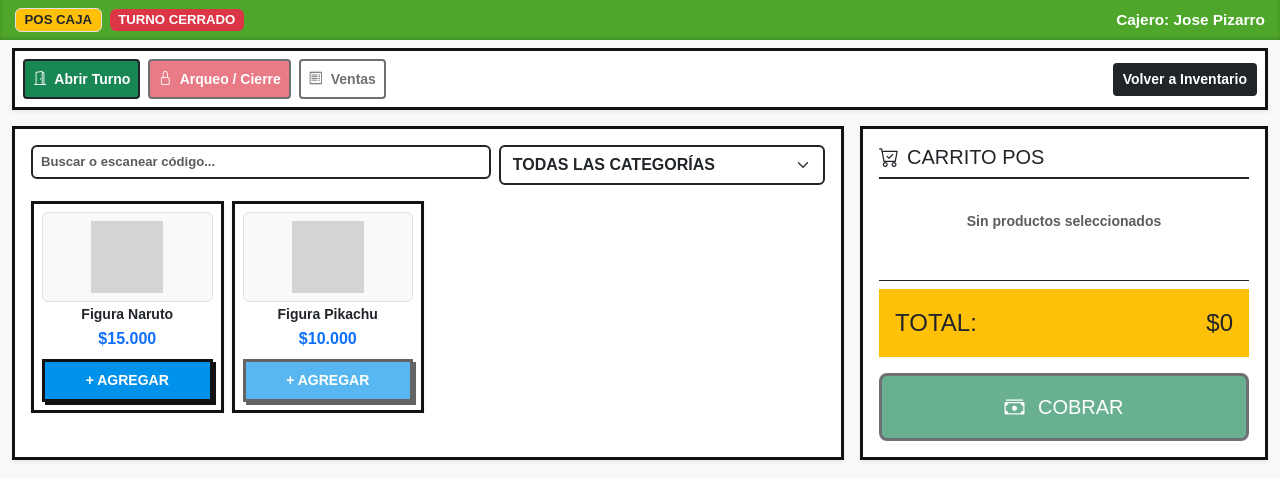
POS › filtra los productos por nombre o código
Type "FIG001" into the field with placeholder "Buscar o escanear código...". click: (261, 162)
box: [31,145,491,179]
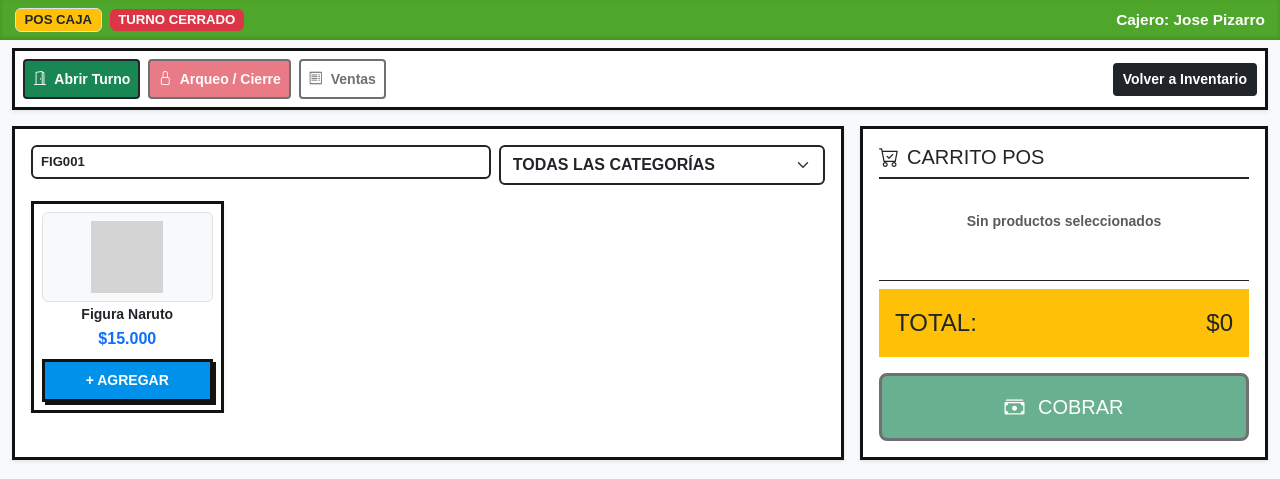
Expected: the heading "Figura Naruto" is shown, [81,306,173,322]
Result: the heading "Figura Pikachu" is gone
